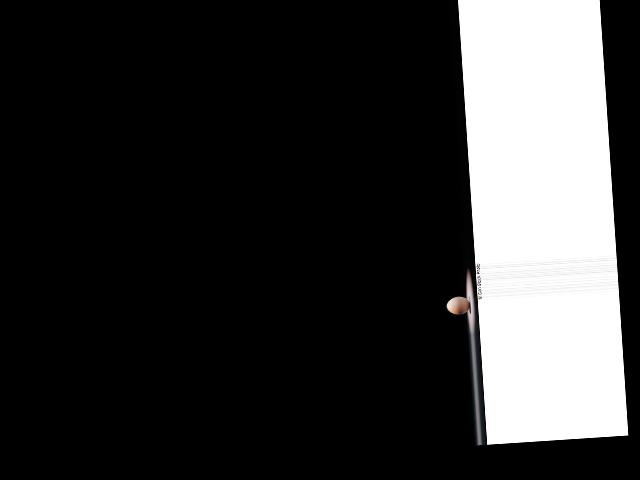egg: (446, 295, 470, 315)
